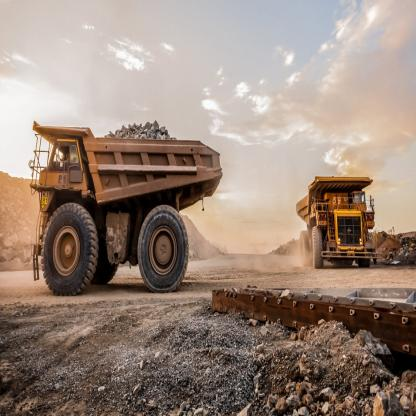dump_truck: (26, 97, 220, 311), (288, 160, 390, 280)
